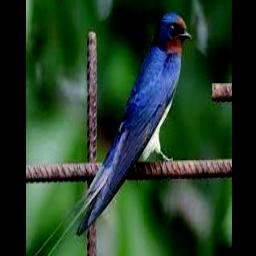Swallow: (28, 13, 192, 256)
